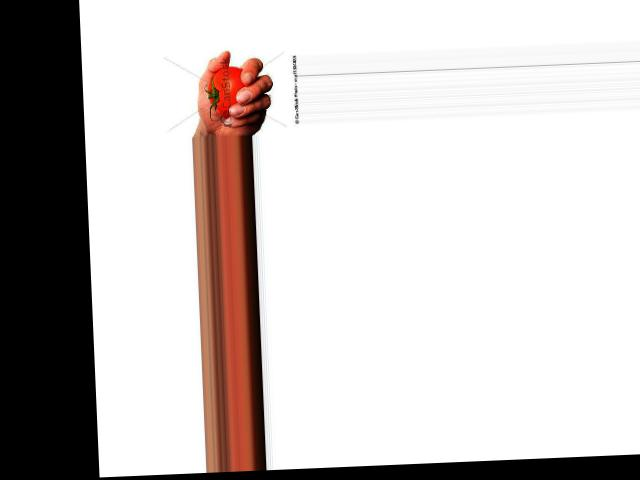tomato: (207, 65, 245, 118)
